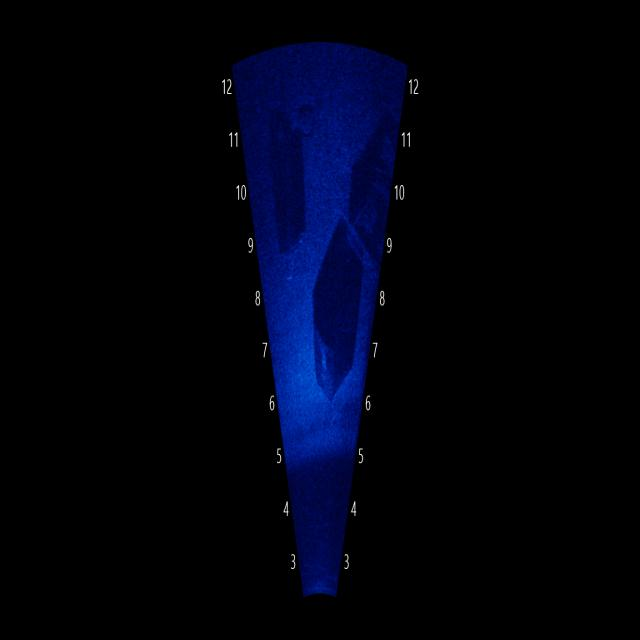square: (309, 208, 363, 440), (265, 92, 309, 270)
